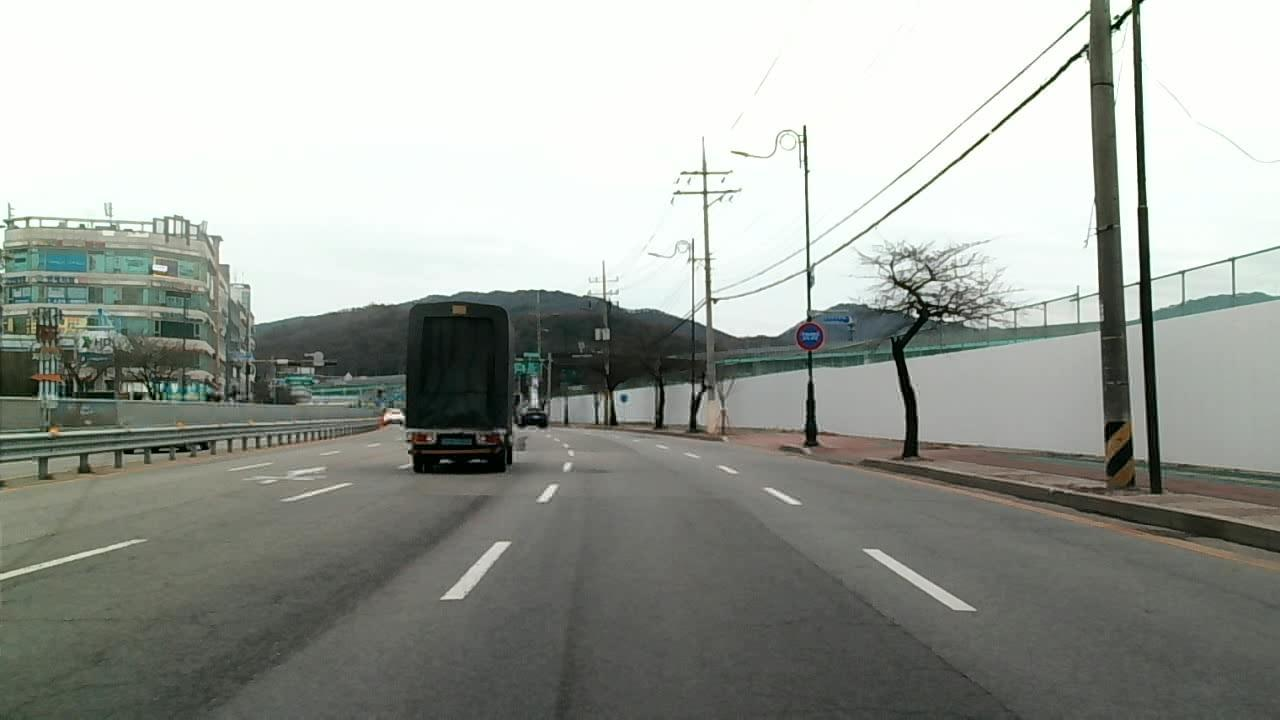vcrack: (841, 577, 1016, 720), (187, 619, 332, 720), (11, 629, 125, 712), (762, 526, 832, 570)
